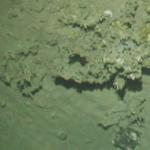dead: (1, 4, 149, 146)
